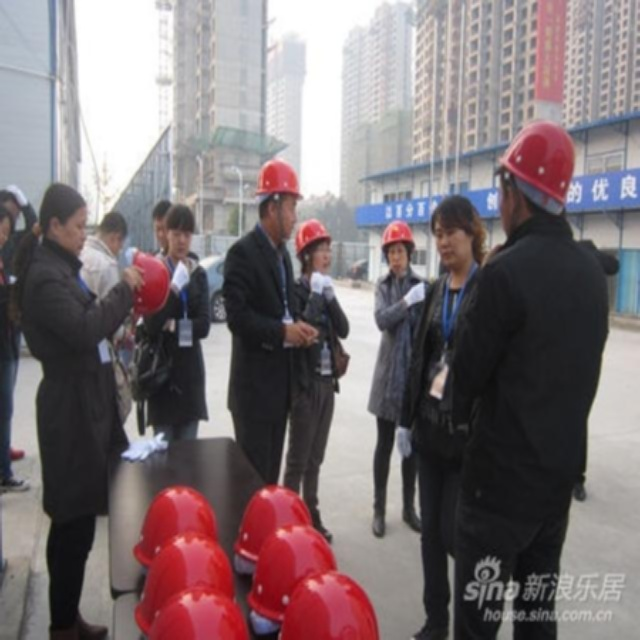Con_Casco: (255, 160, 298, 235), (380, 220, 415, 269)
Sin_Casco_Mascarrilla: (39, 184, 86, 251), (433, 197, 475, 270), (168, 204, 195, 256), (101, 211, 127, 253)
